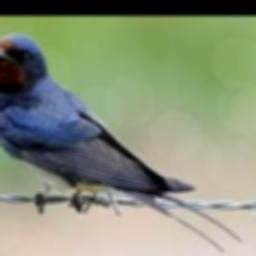Swallow: (0, 33, 243, 253)
